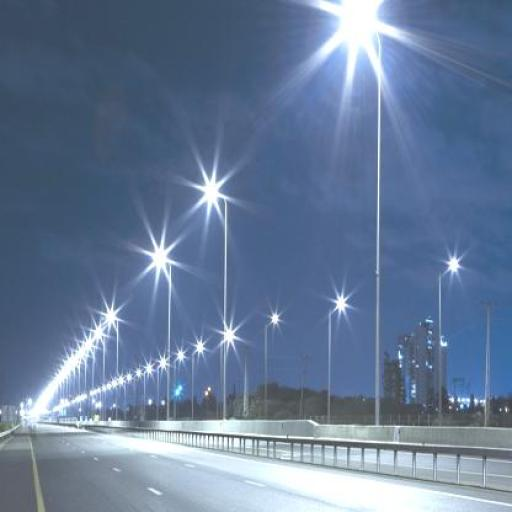street light: (348, 14, 382, 432), (202, 182, 228, 420), (439, 258, 459, 426), (154, 251, 172, 420), (328, 298, 344, 423), (265, 314, 278, 422), (107, 313, 119, 419), (220, 328, 234, 418), (191, 341, 202, 420), (174, 354, 184, 418), (142, 367, 152, 422), (158, 358, 166, 418), (133, 371, 141, 422)
